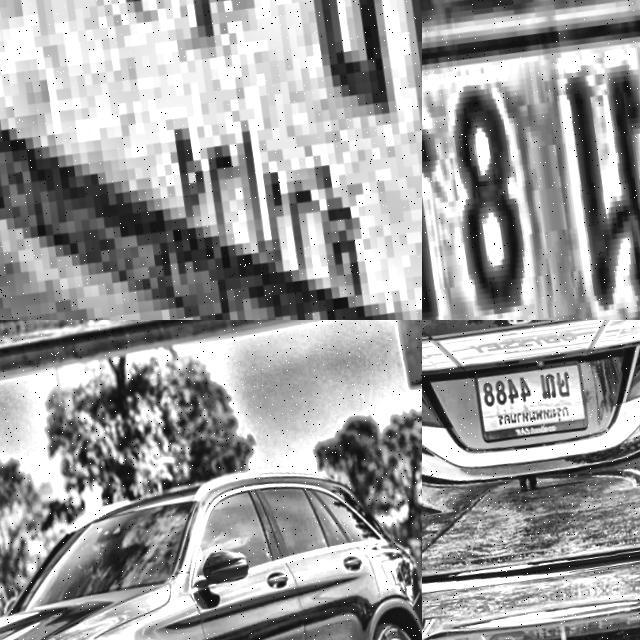license-plate: (0, 0, 422, 320), (422, 0, 640, 320), (472, 352, 594, 445)
